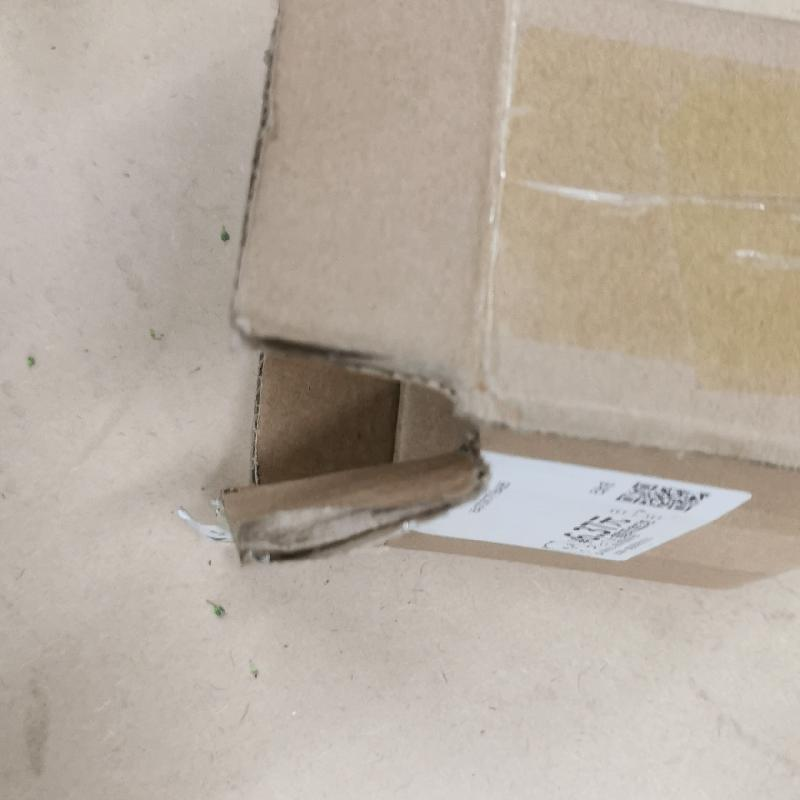boxes: (219, 6, 800, 603)
